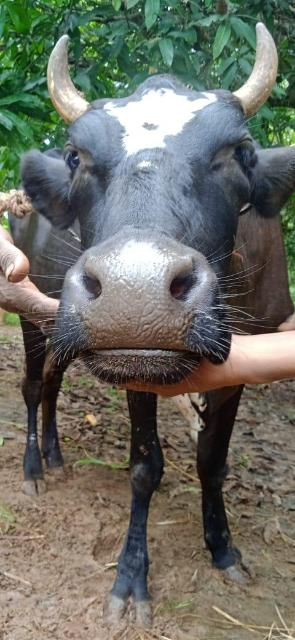Muzzle: (88, 260, 186, 348)
